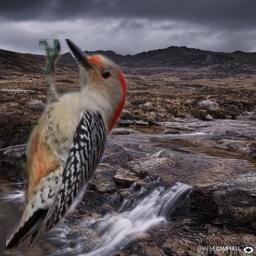Woodpecker: (6, 39, 127, 249)
